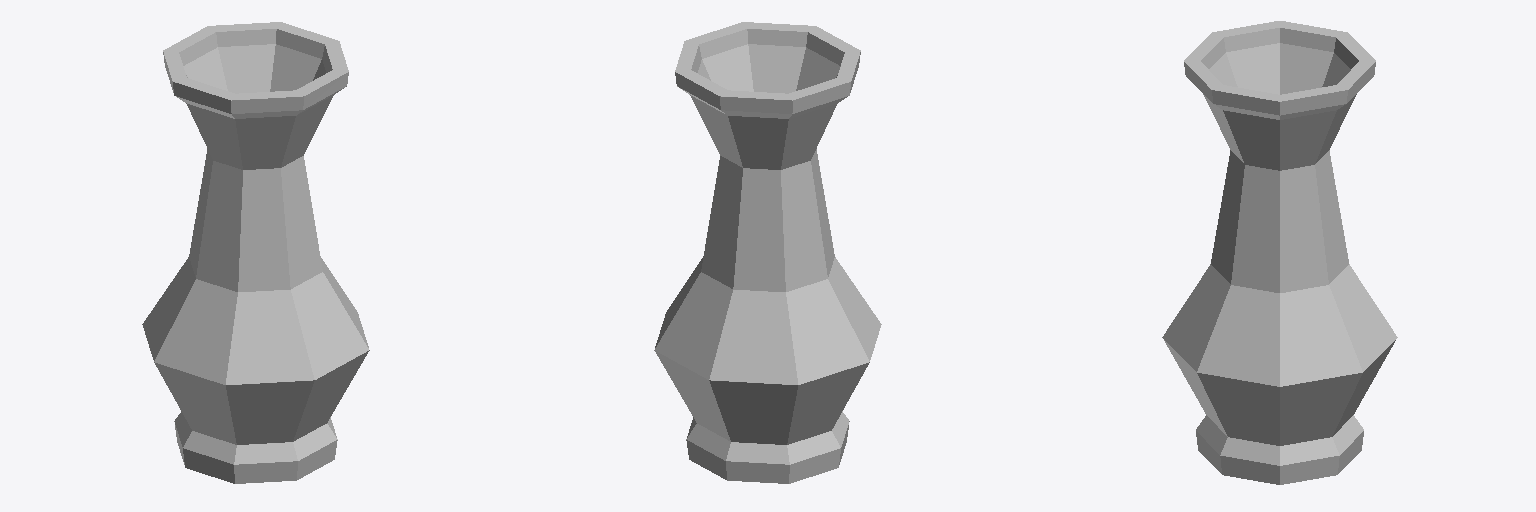
Rendered from Vase2.obj.
3 renders of one model, left to right at view 1: azimuth 30°, elevation 25°; view 2: azimuth 150°, elevation 25°; view 3: azimuth 270°, elevation 25°, orthographic.
Parts seen in each view (by area): view 1: Vase2; view 2: Vase2; view 3: Vase2.
Boxes of the visible parts, x1=… form: Vase2: x1=142, y1=22, x2=369, y2=483; Vase2: x1=654, y1=22, x2=881, y2=483; Vase2: x1=1162, y1=21, x2=1397, y2=484.
Size of the model in its own units: 0.1676 by 0.306 by 0.1676.